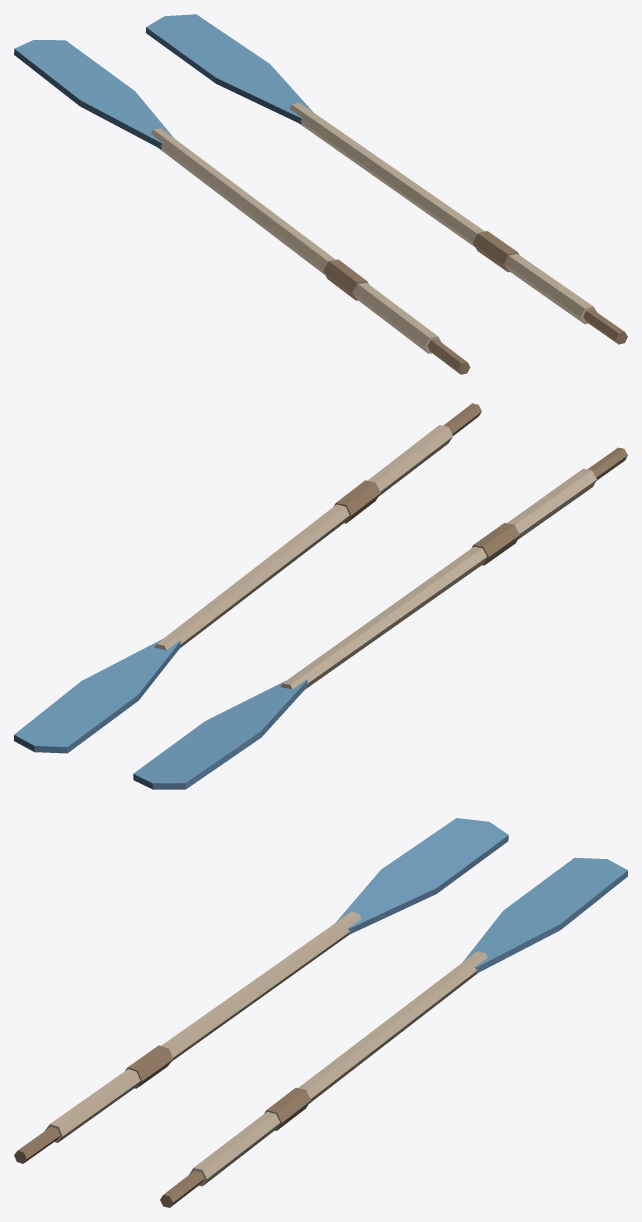
Rendered from rowboat_oars.glb.
3 renders of one model, top to bottom at view 1: azimuth 30°, elevation 25°; view 2: azimuth 150°, elevation 25°; view 3: azimuth 330°, elevation 25°, orthographic. The views are drawn at different scales.
Parts seen in each view (by area): view 1: rowboat_oars; view 2: rowboat_oars; view 3: rowboat_oars.
Boxes of the visible parts, x1,y1,x2,y2 form: rowboat_oars: (14, 14, 627, 374); rowboat_oars: (14, 403, 627, 789); rowboat_oars: (14, 818, 627, 1207).
Bounding box in the file's own units: 0.4996 × 0.0485 × 2.14.
